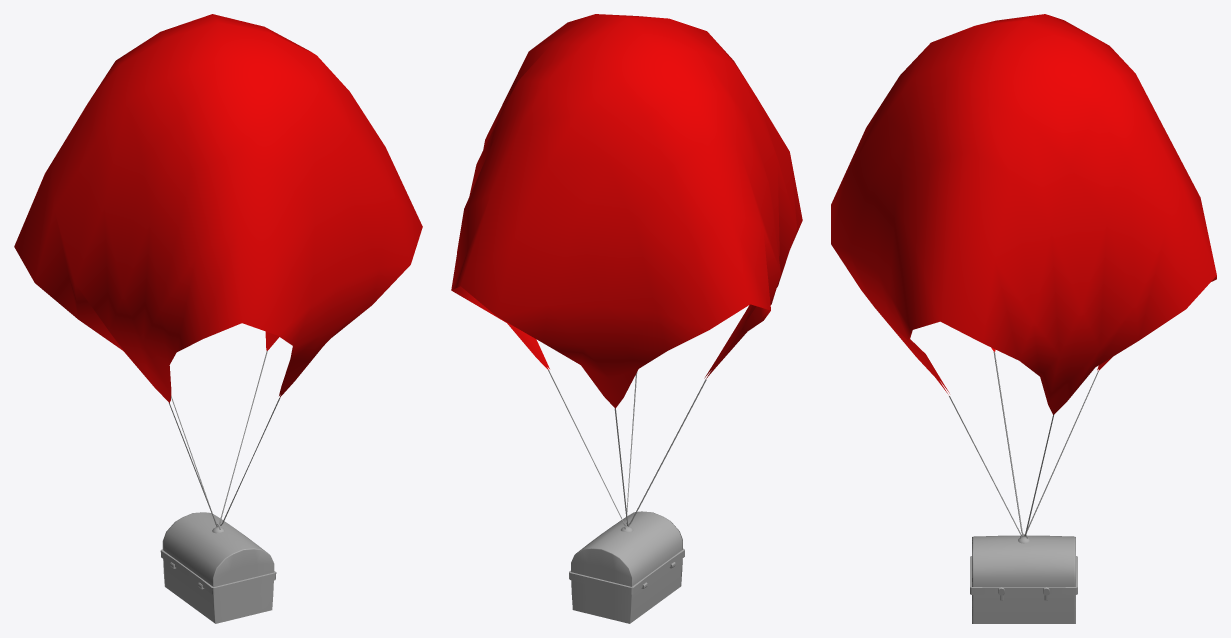
The model's file is chest_parachute_mesh.fbx.
The picture shows the model from 3 angles, left to right: view 1: azimuth 30°, elevation 25°; view 2: azimuth 150°, elevation 25°; view 3: azimuth 270°, elevation 25°; orthographic projection. The views are drawn at different scales.
Visible parts, largest first — view 1: polySurface13; view 2: polySurface13; view 3: polySurface13.
Boxes of the visible parts, box(x1,y1,x2,y2) form: polySurface13: box(14, 14, 422, 623); polySurface13: box(451, 14, 802, 623); polySurface13: box(831, 14, 1216, 623).
Bounding box in the file's own units: 55.59 × 93.58 × 55.59.
